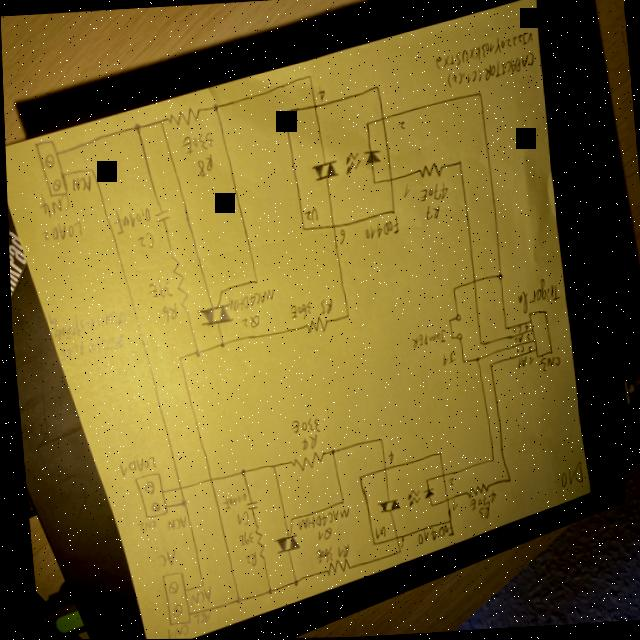capacitor: (152, 207, 171, 225), (242, 501, 255, 512)
crossover: (204, 478, 211, 484), (470, 279, 475, 286), (174, 486, 179, 492)
junction: (132, 123, 141, 133), (212, 104, 220, 114), (176, 499, 184, 509), (217, 342, 224, 350), (231, 597, 238, 605), (175, 356, 182, 364), (237, 469, 243, 477), (496, 274, 502, 282), (327, 449, 333, 457), (343, 313, 349, 321), (456, 160, 462, 168), (476, 92, 482, 100), (307, 74, 313, 82), (192, 350, 198, 358), (375, 437, 381, 445), (195, 581, 201, 589), (267, 464, 273, 471), (289, 579, 295, 586), (393, 549, 399, 556), (336, 499, 341, 507), (263, 589, 269, 595), (487, 458, 493, 464), (87, 167, 93, 173), (158, 120, 164, 126), (450, 287, 455, 293), (486, 363, 491, 369), (253, 279, 257, 286), (504, 478, 508, 484), (460, 359, 464, 365), (473, 358, 477, 364), (477, 341, 481, 347), (502, 326, 506, 332)
resistor: (169, 255, 189, 313), (165, 107, 203, 130), (286, 451, 324, 473), (321, 559, 348, 578), (416, 163, 443, 181), (250, 527, 263, 561), (303, 318, 326, 337), (462, 484, 489, 499)
switch: (446, 314, 464, 343)
terminal: (32, 140, 68, 198), (130, 470, 166, 522), (157, 571, 188, 627), (527, 311, 550, 360)
text: (433, 32, 536, 72), (445, 53, 536, 90), (45, 308, 126, 343), (56, 332, 126, 364), (513, 279, 560, 315), (110, 206, 151, 236), (225, 289, 274, 313), (292, 510, 348, 531), (362, 215, 399, 242), (115, 454, 154, 479), (38, 221, 82, 243), (37, 192, 69, 220), (411, 523, 451, 545), (179, 132, 214, 157), (415, 180, 449, 204), (409, 330, 446, 350), (286, 415, 321, 435), (465, 490, 495, 511), (144, 278, 172, 300), (185, 585, 209, 607), (194, 152, 213, 179), (287, 301, 311, 321), (153, 548, 175, 569), (217, 493, 244, 510), (536, 356, 562, 373), (163, 514, 185, 533), (159, 302, 177, 325), (70, 175, 91, 194), (135, 231, 154, 252), (133, 518, 156, 535), (161, 623, 185, 639), (422, 204, 441, 223), (296, 435, 316, 452), (188, 609, 208, 626), (310, 547, 332, 562), (237, 316, 259, 331), (233, 531, 251, 548), (439, 351, 455, 369), (316, 299, 332, 316), (301, 208, 319, 223), (311, 530, 330, 543), (240, 551, 254, 568), (473, 507, 488, 522), (233, 511, 246, 528), (370, 525, 384, 540), (333, 546, 347, 559), (316, 87, 327, 103), (513, 356, 525, 370), (401, 184, 411, 199), (337, 230, 346, 245), (511, 336, 522, 347), (509, 325, 520, 336), (384, 453, 393, 463), (513, 346, 522, 356), (396, 121, 405, 131), (447, 503, 455, 513), (525, 356, 533, 366), (396, 537, 402, 550), (421, 491, 430, 499), (445, 477, 452, 487), (521, 324, 527, 333), (523, 335, 529, 343), (524, 347, 530, 353)
